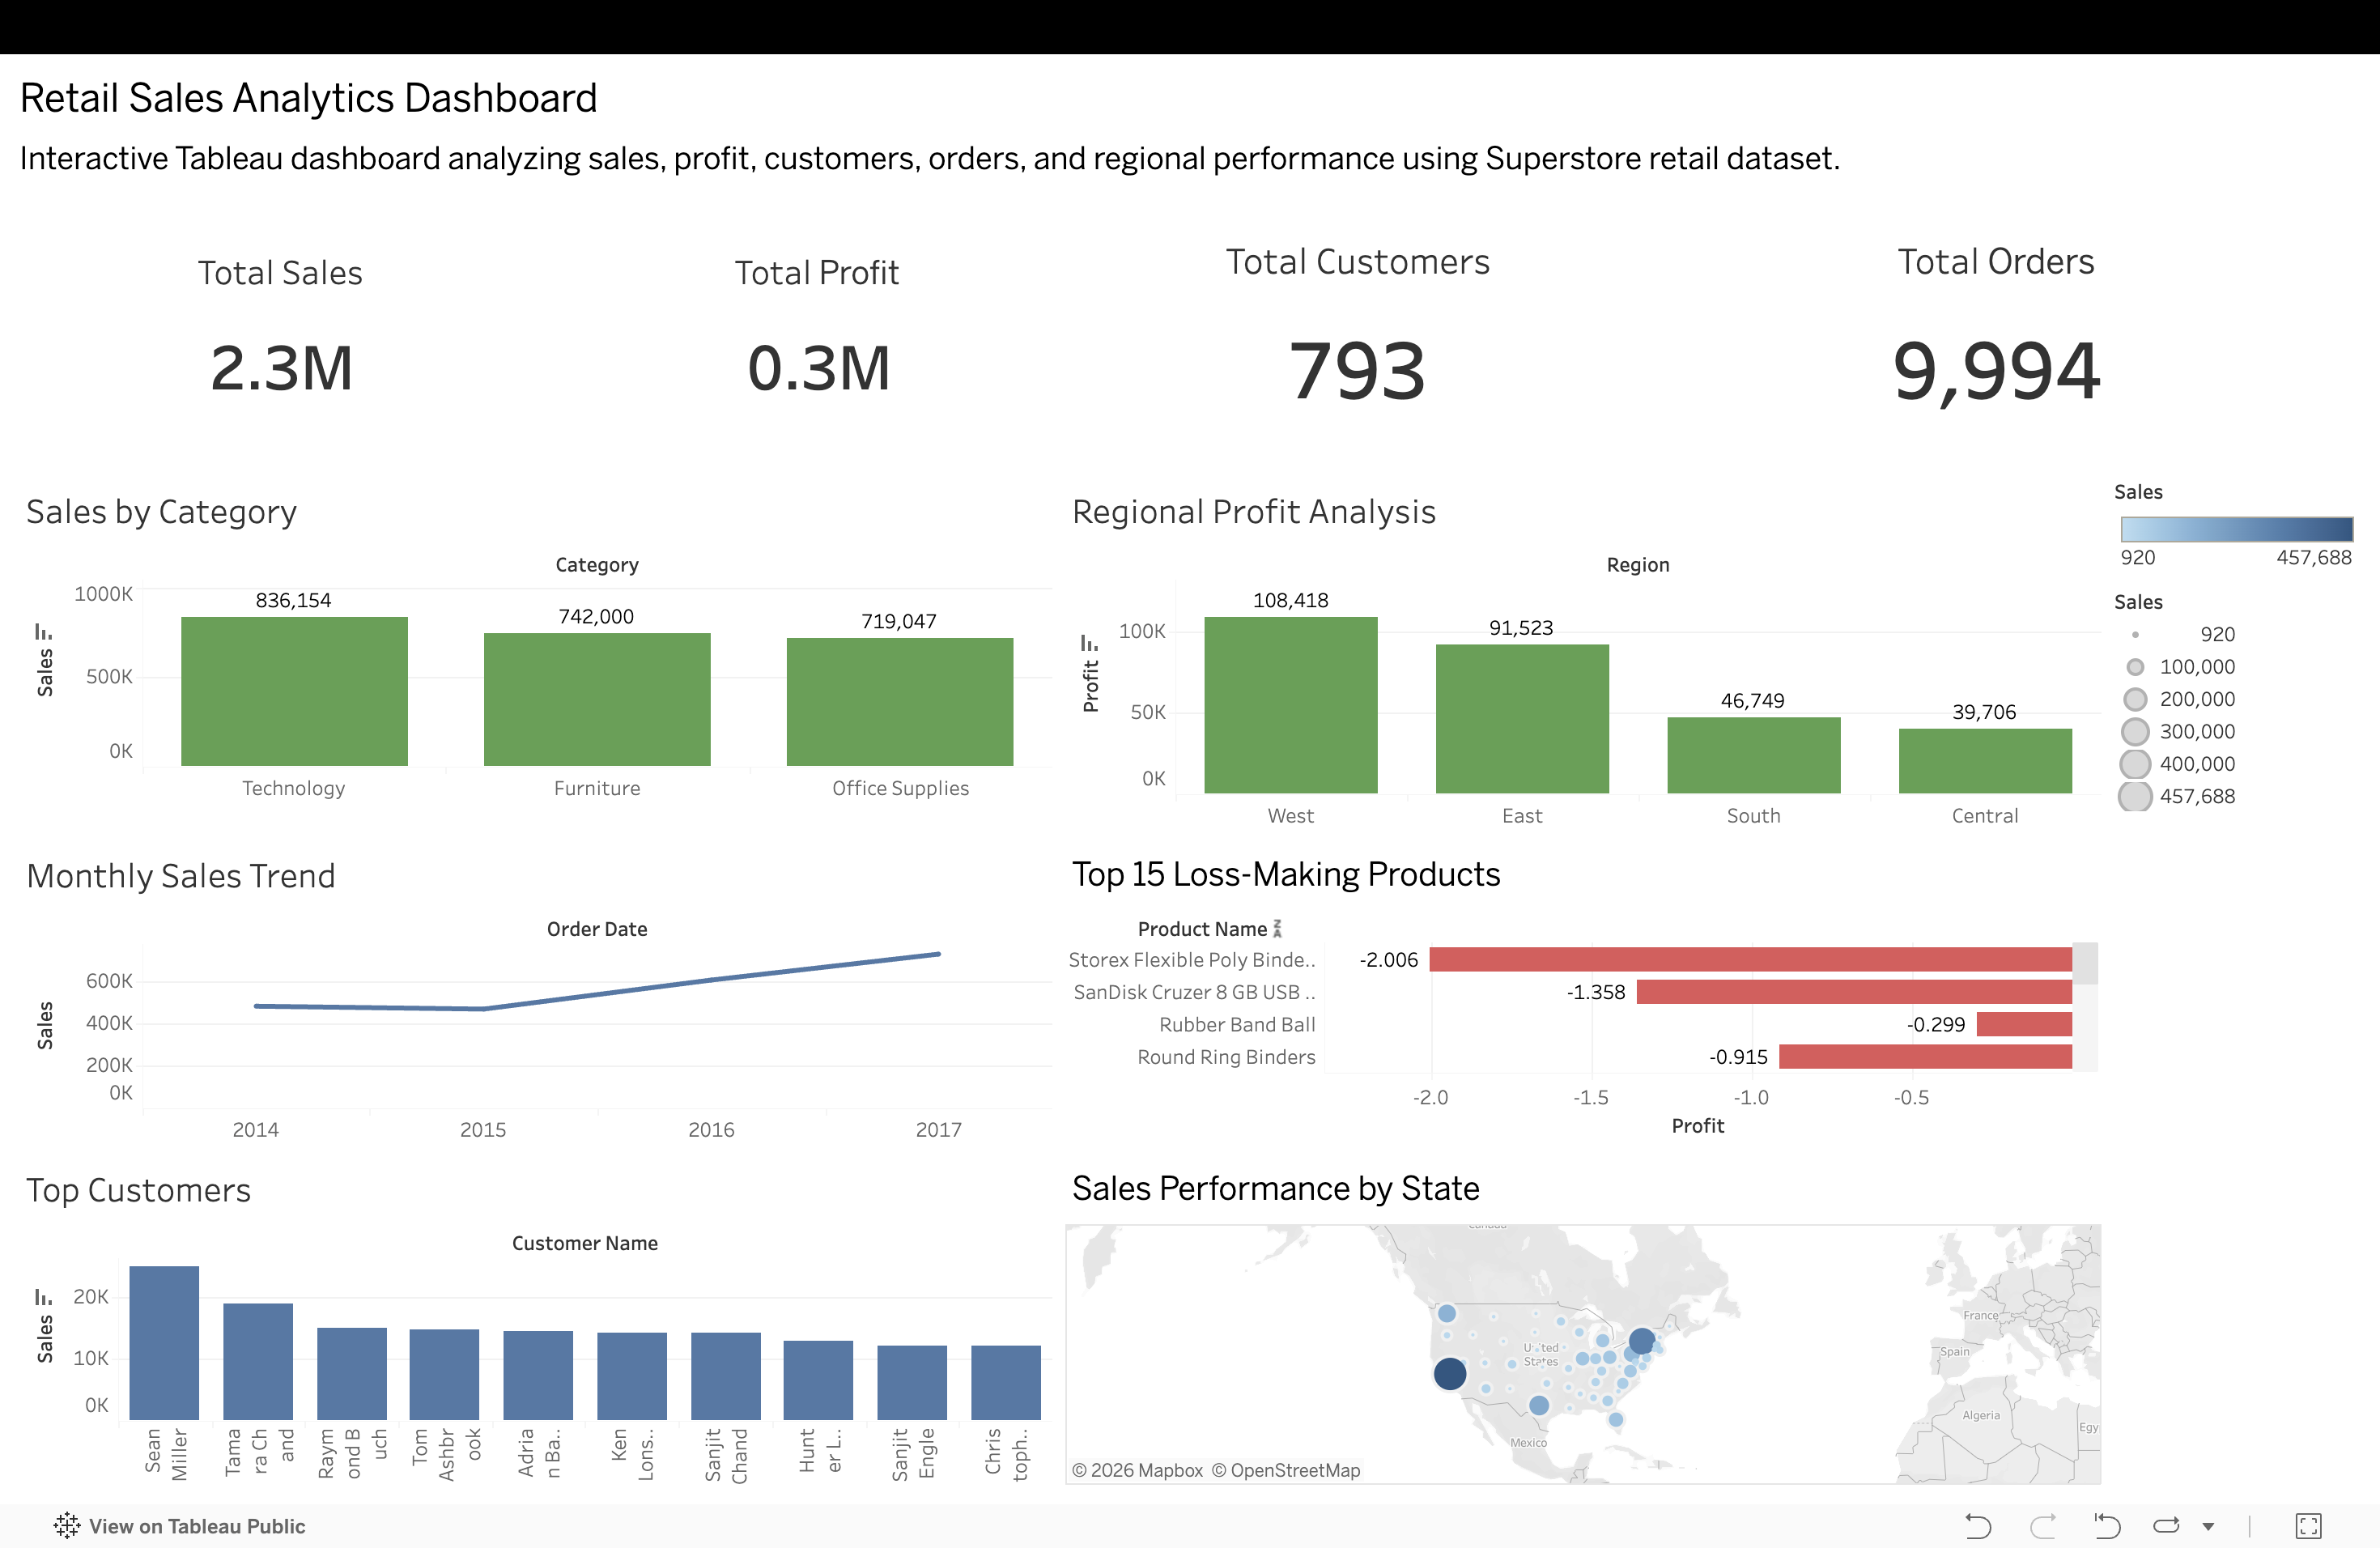

The page's visual inventory and layout, read from the dashboard file:
{"tool":"tableau","page":{"name":"Retail Sales Performance Dashboard","canvas":[1000,1000],"units":"permille","ordinal":0},"visuals":[{"type":"title","box":[6.4,11,987.3,53.7]},{"type":"text","box":[6.4,64.7,987.3,44.1]},{"type":"worksheet","title":"Total Sales","mark":"Automatic","box":[6.4,108.8,225.6,192.8]},{"type":"worksheet","title":"Total Profit","mark":"Automatic","box":[231.9,108.8,225.6,192.8]},{"type":"worksheet","title":"Total Customers","mark":"Automatic","box":[457.5,108.8,225.6,192.8]},{"type":"worksheet","title":"Total Orders ","mark":"Automatic","box":[683.1,108.8,310.6,192.8]},{"type":"worksheet","title":"Sales by Category","mark":"Bar","rows":["Sales"],"cols":["Category"],"box":[6.4,301.6,429.7,245.3]},{"type":"worksheet","title":"Profit by Region","mark":"Automatic","rows":["Profit"],"cols":["Region"],"box":[436,301.6,430.5,245.3]},{"type":"legend","title":"Sales Map","param":"[federated.19wsm8m0yvffh61g49ogx0gm4pfi].[sum:Sales:qk]","box":[866.6,301.6,127.1,89.5]},{"type":"legend","title":"Sales Map","param":"[federated.19wsm8m0yvffh61g49ogx0gm4pfi].[sum:Sales:qk]","box":[866.6,391.2,127.1,201.1]},{"type":"worksheet","title":"Monthly Sales Trend","mark":"Line","rows":["Sales"],"cols":["Order Date"],"box":[6.4,546.9,429.7,211.7]},{"type":"worksheet","title":"Loss Products","mark":"Automatic","rows":["Product Name"],"cols":["Profit"],"box":[436,546.9,430.5,211.7]},{"type":"worksheet","title":"Top Customers","mark":"Automatic","rows":["Sales"],"cols":["Customer Name"],"box":[6.4,758.6,429.7,230.4]},{"type":"worksheet","title":"Sales Map","mark":"Automatic","box":[436.1,758.6,430.5,230.4]}]}

Visuals, with their boxes on the dashboard's canvas, which has no fixed pixel size, in thousandths of its width and height (x1, y1, x2, y2). These are canvas units, not pixel positions in the 2380x1548 screenshot, which may show the page scaled, cropped or inside an application window:
title: 6:11:994:65
text: 6:65:994:109
"Total Sales" worksheet: 6:109:232:302
"Total Profit" worksheet: 232:109:458:302
"Total Customers" worksheet: 458:109:683:302
"Total Orders " worksheet: 683:109:994:302
"Sales by Category" worksheet (Bar marks): 6:302:436:547
"Profit by Region" worksheet: 436:302:866:547
"Sales Map" legend: 867:302:994:391
"Sales Map" legend: 867:391:994:592
"Monthly Sales Trend" worksheet (Line marks): 6:547:436:759
"Loss Products" worksheet: 436:547:866:759
"Top Customers" worksheet: 6:759:436:989
"Sales Map" worksheet: 436:759:867:989
